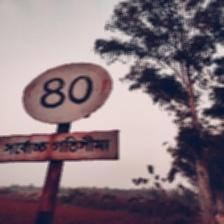Speed-limit: (0, 60, 119, 163)
